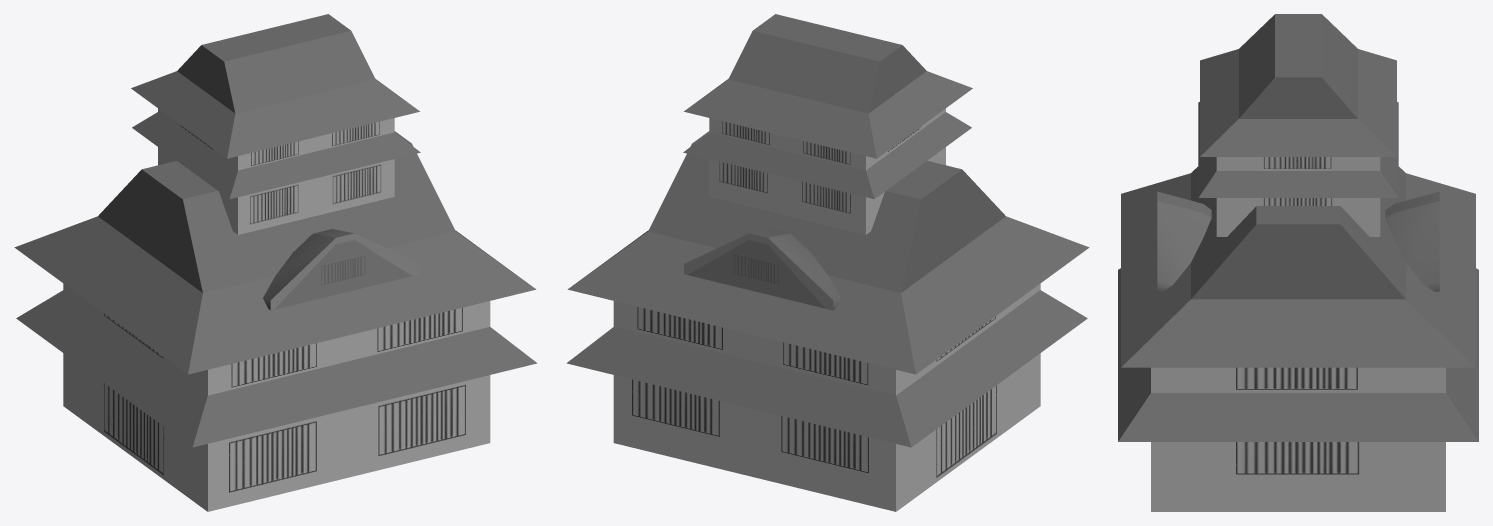
The model's file is Home_L_Ver2.FBX.
The picture shows the model from 3 angles, left to right: view 1: azimuth 30°, elevation 25°; view 2: azimuth 150°, elevation 25°; view 3: azimuth 270°, elevation 25°; orthographic projection. The views are drawn at different scales.
Parts seen in each view (by area): view 1: Box006, Box002, Box003; view 2: Box006, Box002, Box005; view 3: Box006, Box002, Box005, Box003.
Boxes of the visible parts, x1,y1,x2,y2 form: Box006: (14, 131, 537, 511); Box002: (131, 14, 420, 234); Box003: (263, 229, 419, 310); Box006: (566, 131, 1089, 511); Box002: (683, 14, 972, 234); Box005: (684, 229, 840, 310); Box006: (1118, 166, 1478, 511); Box002: (1198, 14, 1398, 236); Box005: (1385, 191, 1439, 291); Box003: (1157, 191, 1211, 291).
Size of the model in its own units: 43.07 by 37.77 by 45.69.
Materials: 1 (1 with a texture image).
